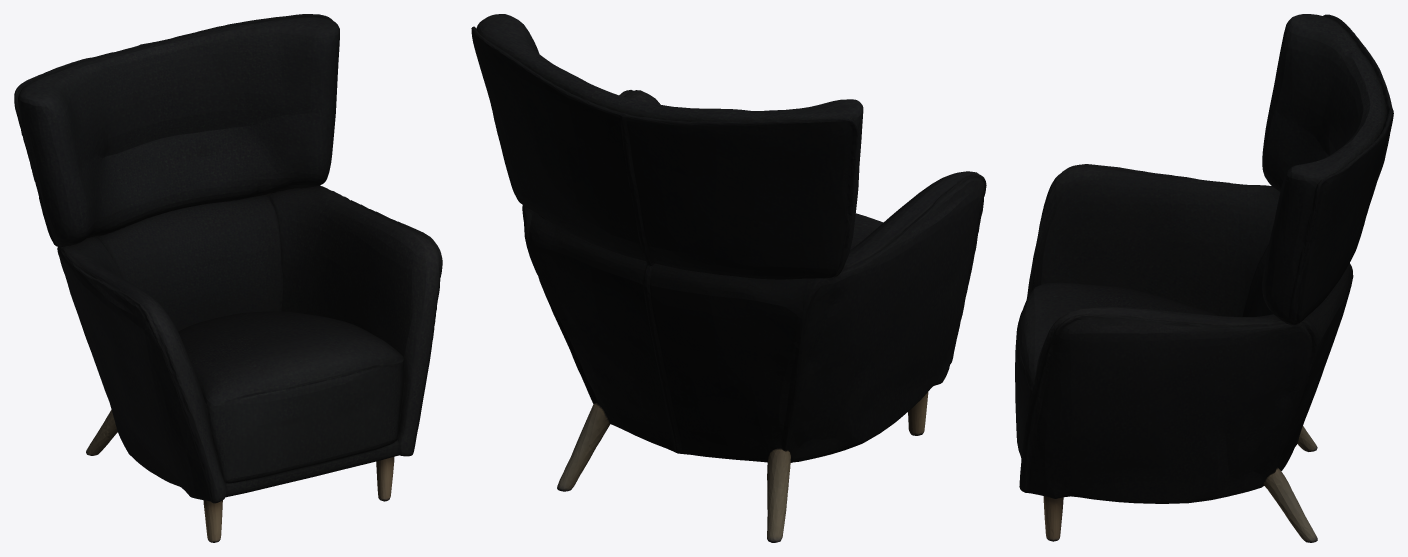
The model's file is armchairs_16239_image_3.glb.
3 renders of one model, left to right at view 1: azimuth 30°, elevation 25°; view 2: azimuth 150°, elevation 25°; view 3: azimuth 270°, elevation 25°, orthographic. The views are drawn at different scales.
Parts seen in each view (by area): view 1: world; view 2: world; view 3: world.
Boxes of the visible parts, x1,y1,x2,y2 form: world: (14, 14, 442, 542); world: (471, 14, 986, 542); world: (1015, 14, 1393, 542).
Size of the model in its own units: 0.8955 by 1 by 0.855.
1 material, 1 textured.
